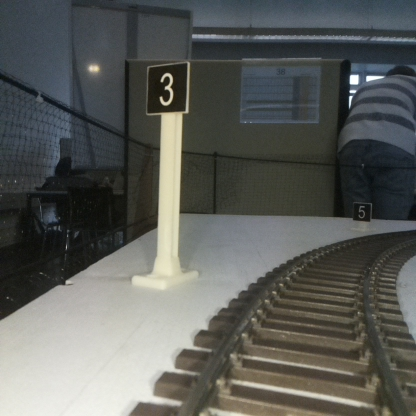black-info-3: (147, 62, 187, 287)
